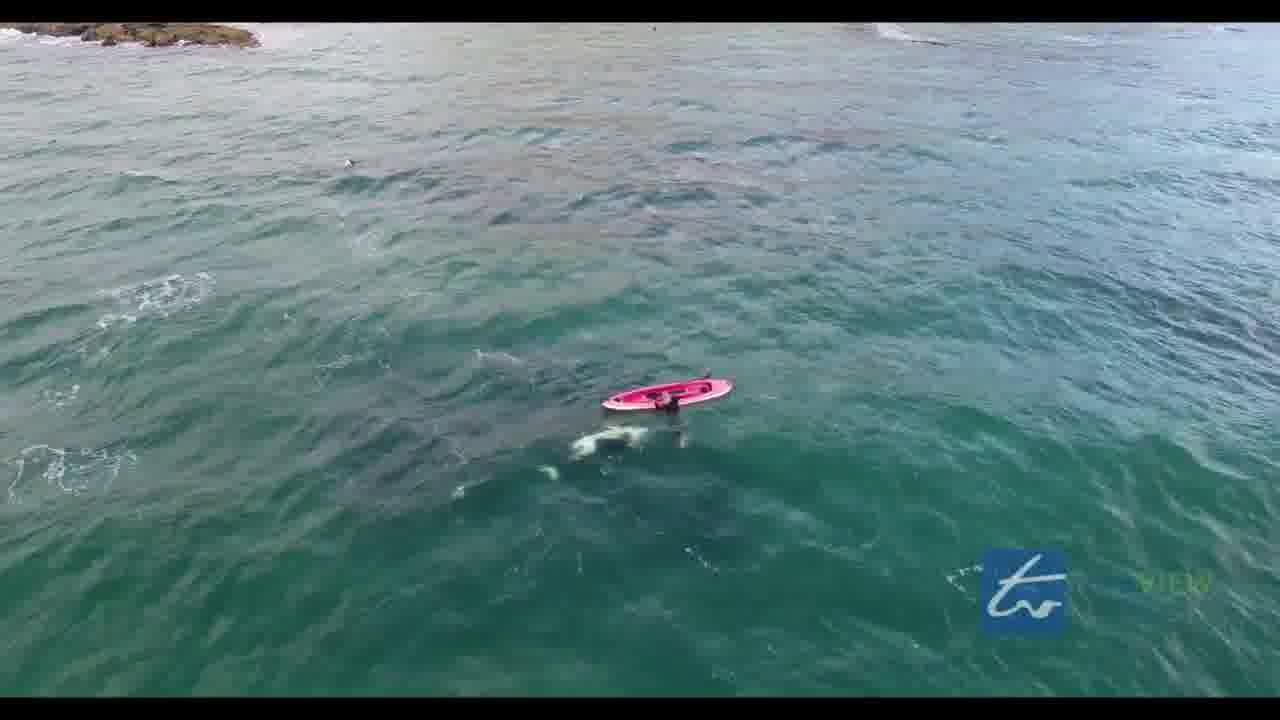swimmer: (646, 383, 684, 417)
